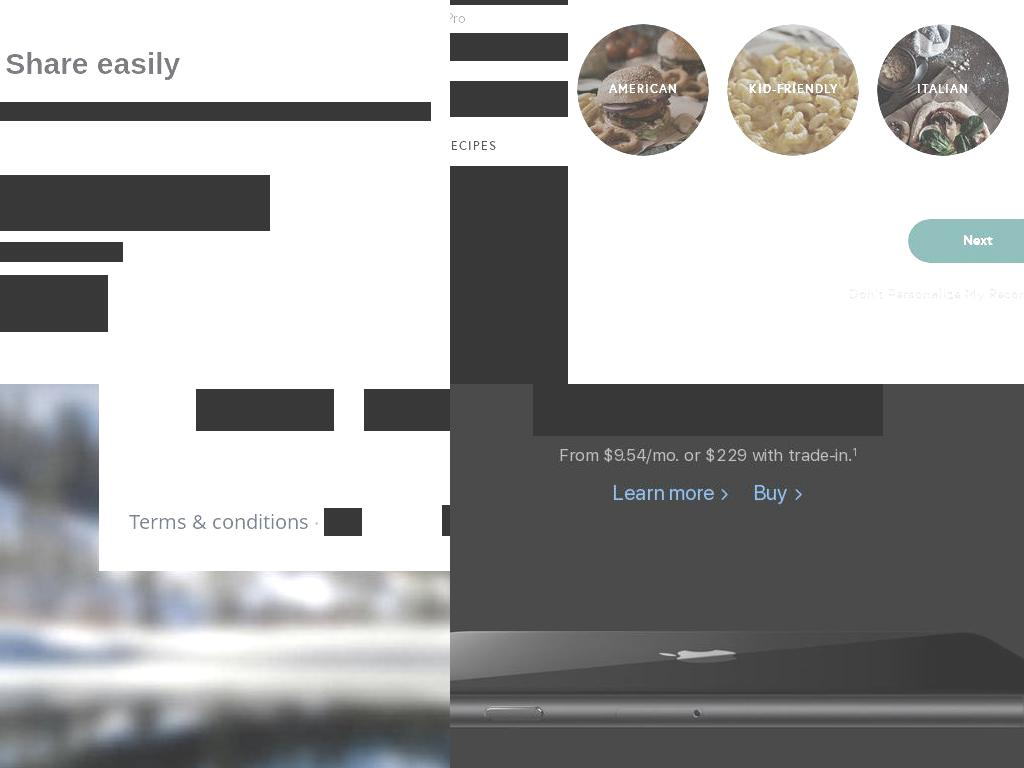button: (450, 166, 568, 384), (577, 24, 709, 156), (727, 24, 859, 156), (877, 24, 1009, 156), (196, 389, 334, 431), (910, 221, 1024, 261), (450, 81, 568, 117), (364, 389, 450, 431), (450, 5, 568, 33), (450, 33, 568, 61), (450, 305, 494, 362), (450, 25, 532, 53), (450, 89, 532, 117), (450, 117, 532, 145), (450, 0, 532, 25), (471, 303, 508, 321), (507, 303, 533, 321), (450, 303, 472, 321)
field: (0, 175, 270, 231)
heading: (533, 384, 883, 436), (0, 46, 431, 82), (0, 102, 431, 121)
image: (568, 0, 1024, 384), (568, 0, 1024, 384), (577, 24, 709, 156), (727, 24, 859, 156), (877, 24, 1009, 156), (450, 240, 536, 280), (450, 189, 535, 229), (189, 182, 258, 224)
label: (0, 275, 108, 332)
link: (129, 508, 309, 536), (612, 479, 730, 505), (753, 479, 803, 505), (324, 508, 362, 536), (458, 378, 556, 384), (450, 141, 497, 153), (852, 445, 858, 458)
text: (450, 384, 1024, 768), (849, 283, 1024, 307), (450, 166, 533, 199), (0, 242, 123, 262), (746, 444, 852, 465), (450, 352, 517, 382), (603, 442, 680, 468), (590, 82, 696, 98), (740, 82, 846, 98), (890, 82, 996, 98), (450, 81, 568, 93), (705, 442, 747, 468), (450, 99, 539, 111), (559, 444, 604, 465), (454, 297, 478, 331), (679, 444, 705, 465), (450, 331, 494, 343), (450, 251, 481, 265), (450, 288, 469, 302), (450, 214, 468, 228), (450, 325, 462, 339)
